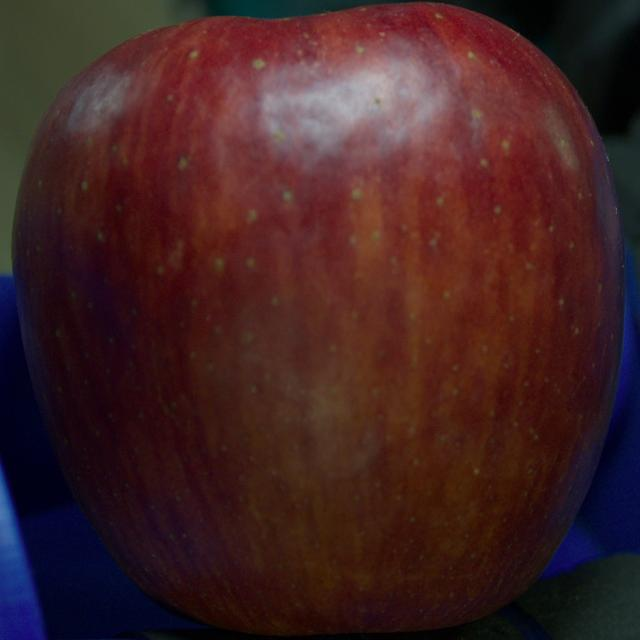apple: (12, 3, 624, 634)
